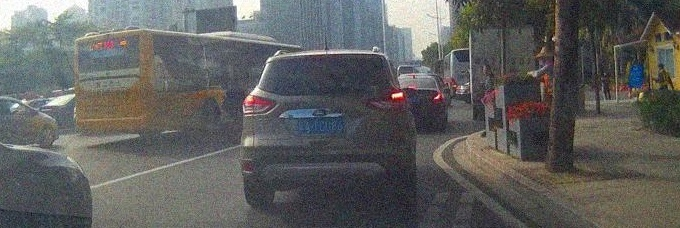L_light: (243, 95, 276, 114)
R_light: (369, 89, 407, 109)
T_light: (315, 54, 336, 60)
day-right: (240, 49, 416, 206)
